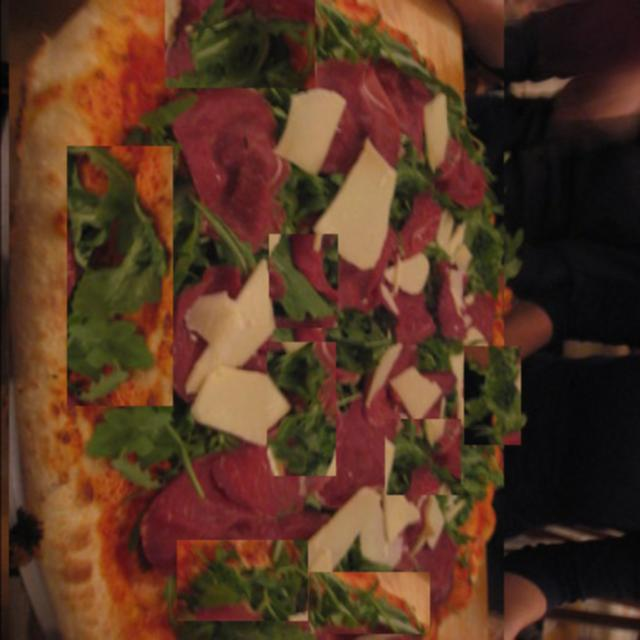basil: (64, 146, 170, 406), (164, 0, 313, 88), (176, 540, 306, 621), (266, 342, 334, 476), (434, 90, 504, 206), (308, 572, 428, 634), (268, 234, 336, 328), (384, 419, 459, 495), (463, 346, 520, 445)
pizza: (6, 0, 502, 640)
